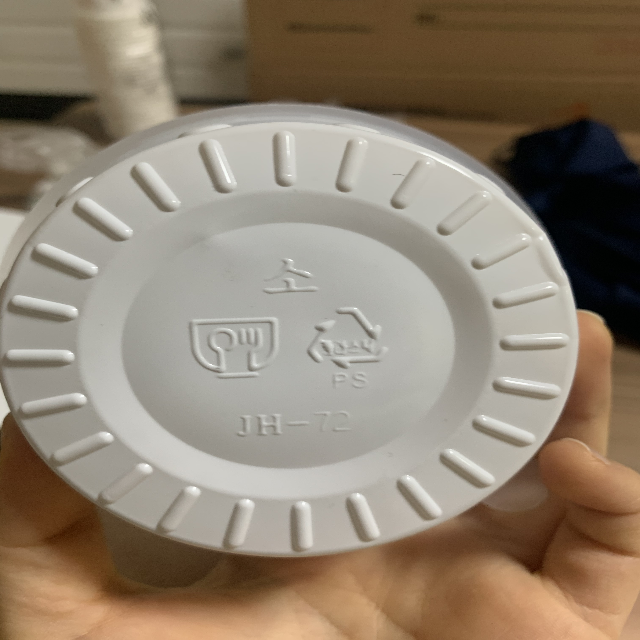ps: (306, 301, 394, 389)
